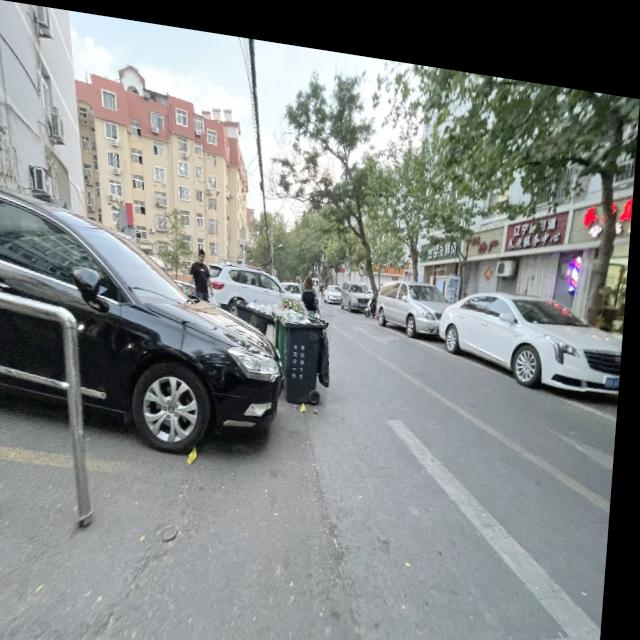overflow: (277, 285, 338, 396)
